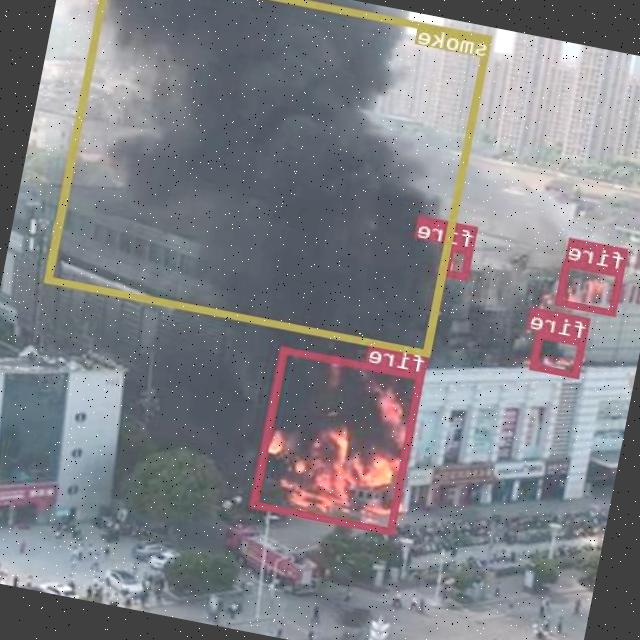fire: (252, 346, 426, 534), (557, 259, 626, 315), (531, 330, 587, 378), (444, 243, 476, 279)
smoke: (47, 0, 493, 355)
